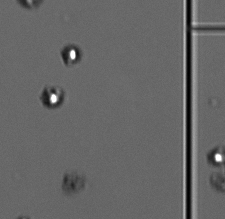Dead Cell: (16, 1, 45, 10)
Living Cell: (59, 43, 87, 67), (40, 83, 66, 108), (207, 145, 223, 166)
